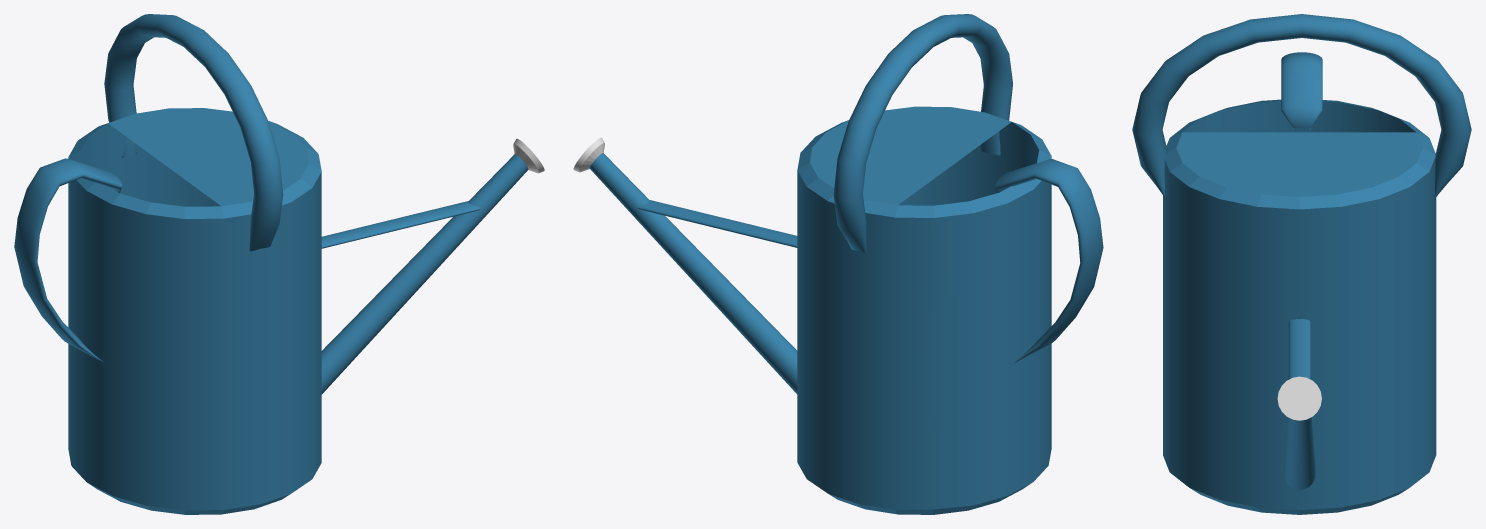
Rendered from wateringCan.fbx.
3 renders of one model, left to right at view 1: azimuth 30°, elevation 25°; view 2: azimuth 150°, elevation 25°; view 3: azimuth 270°, elevation 25°, orthographic. The views are drawn at different scales.
Parts seen in each view (by area): view 1: pTorus3; view 2: pTorus3; view 3: pTorus3.
Part boxes in pixels (<box>): pTorus3: <box>14,14,544,514</box>; pTorus3: <box>573,14,1103,514</box>; pTorus3: <box>1132,14,1471,514</box>.
Bounding box in the file's own units: 0.1353 × 0.1087 × 0.0743.
